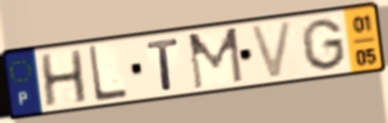G: (299, 17, 348, 73)
H: (38, 47, 90, 109)
L: (85, 44, 130, 105)
M: (185, 25, 246, 92)
T: (145, 36, 182, 93)
V: (247, 18, 296, 82)
